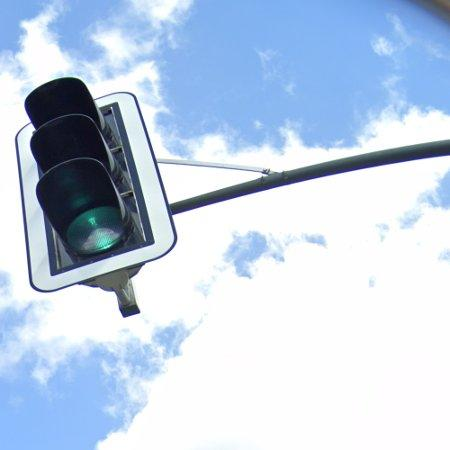traffic lights: (16, 79, 177, 316)
